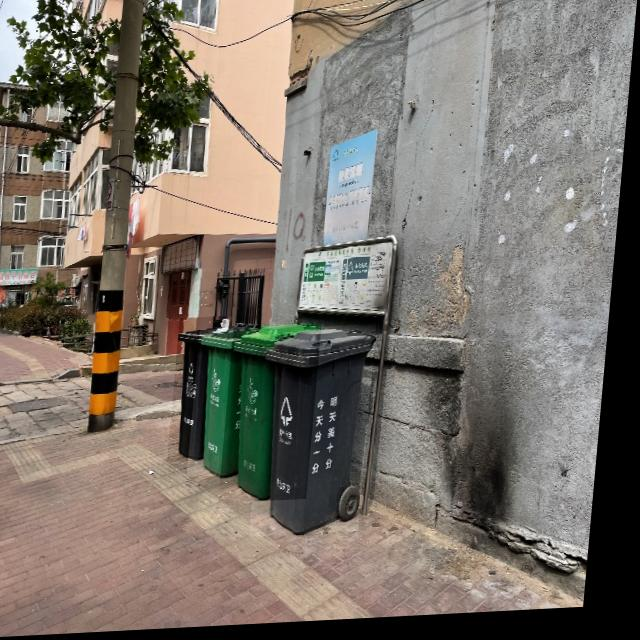garbage_bin: (259, 328, 383, 540), (228, 328, 329, 506), (196, 330, 264, 480)
overflow: (176, 319, 234, 464)
